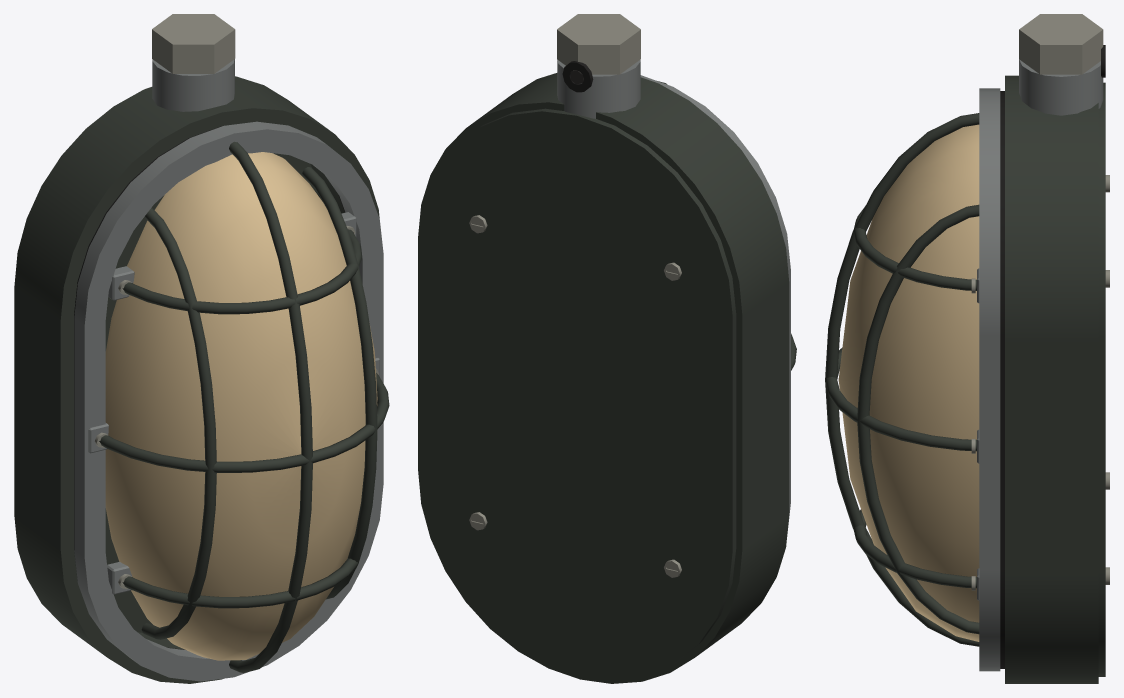
Rendered from hallway-caged-sconce-de8ac443a677.glb.
The picture shows the model from 3 angles, left to right: view 1: azimuth 30°, elevation 25°; view 2: azimuth 150°, elevation 25°; view 3: azimuth 270°, elevation 25°; orthographic projection.
Parts seen in each view (by area): view 1: opal-bulkhead, paint-hall-case, steel-hall-aged, steel-hall-bare, rubber; view 2: paint-hall-case, steel-hall-bare, steel-hall-aged, rubber; view 3: paint-hall-case, opal-bulkhead, steel-hall-aged, steel-hall-bare, rubber.
Part boxes in pixels (x1=…): opal-bulkhead: x1=105, y1=152, x2=377, y2=660; paint-hall-case: x1=14, y1=76, x2=389, y2=683; steel-hall-aged: x1=74, y1=59, x2=383, y2=681; steel-hall-bare: x1=95, y1=14, x2=378, y2=588; rubber: x1=74, y1=126, x2=345, y2=649; paint-hall-case: x1=418, y1=73, x2=796, y2=683; steel-hall-bare: x1=469, y1=14, x2=681, y2=577; steel-hall-aged: x1=557, y1=60, x2=790, y2=536; rubber: x1=562, y1=61, x2=593, y2=92; paint-hall-case: x1=825, y1=75, x2=1105, y2=683; opal-bulkhead: x1=838, y1=124, x2=979, y2=641; steel-hall-aged: x1=977, y1=59, x2=1103, y2=671; steel-hall-bare: x1=971, y1=14, x2=1109, y2=590; rubber: x1=1000, y1=45, x2=1105, y2=668.
Size of the model in its own units: 0.16 by 0.3 by 0.1216.
